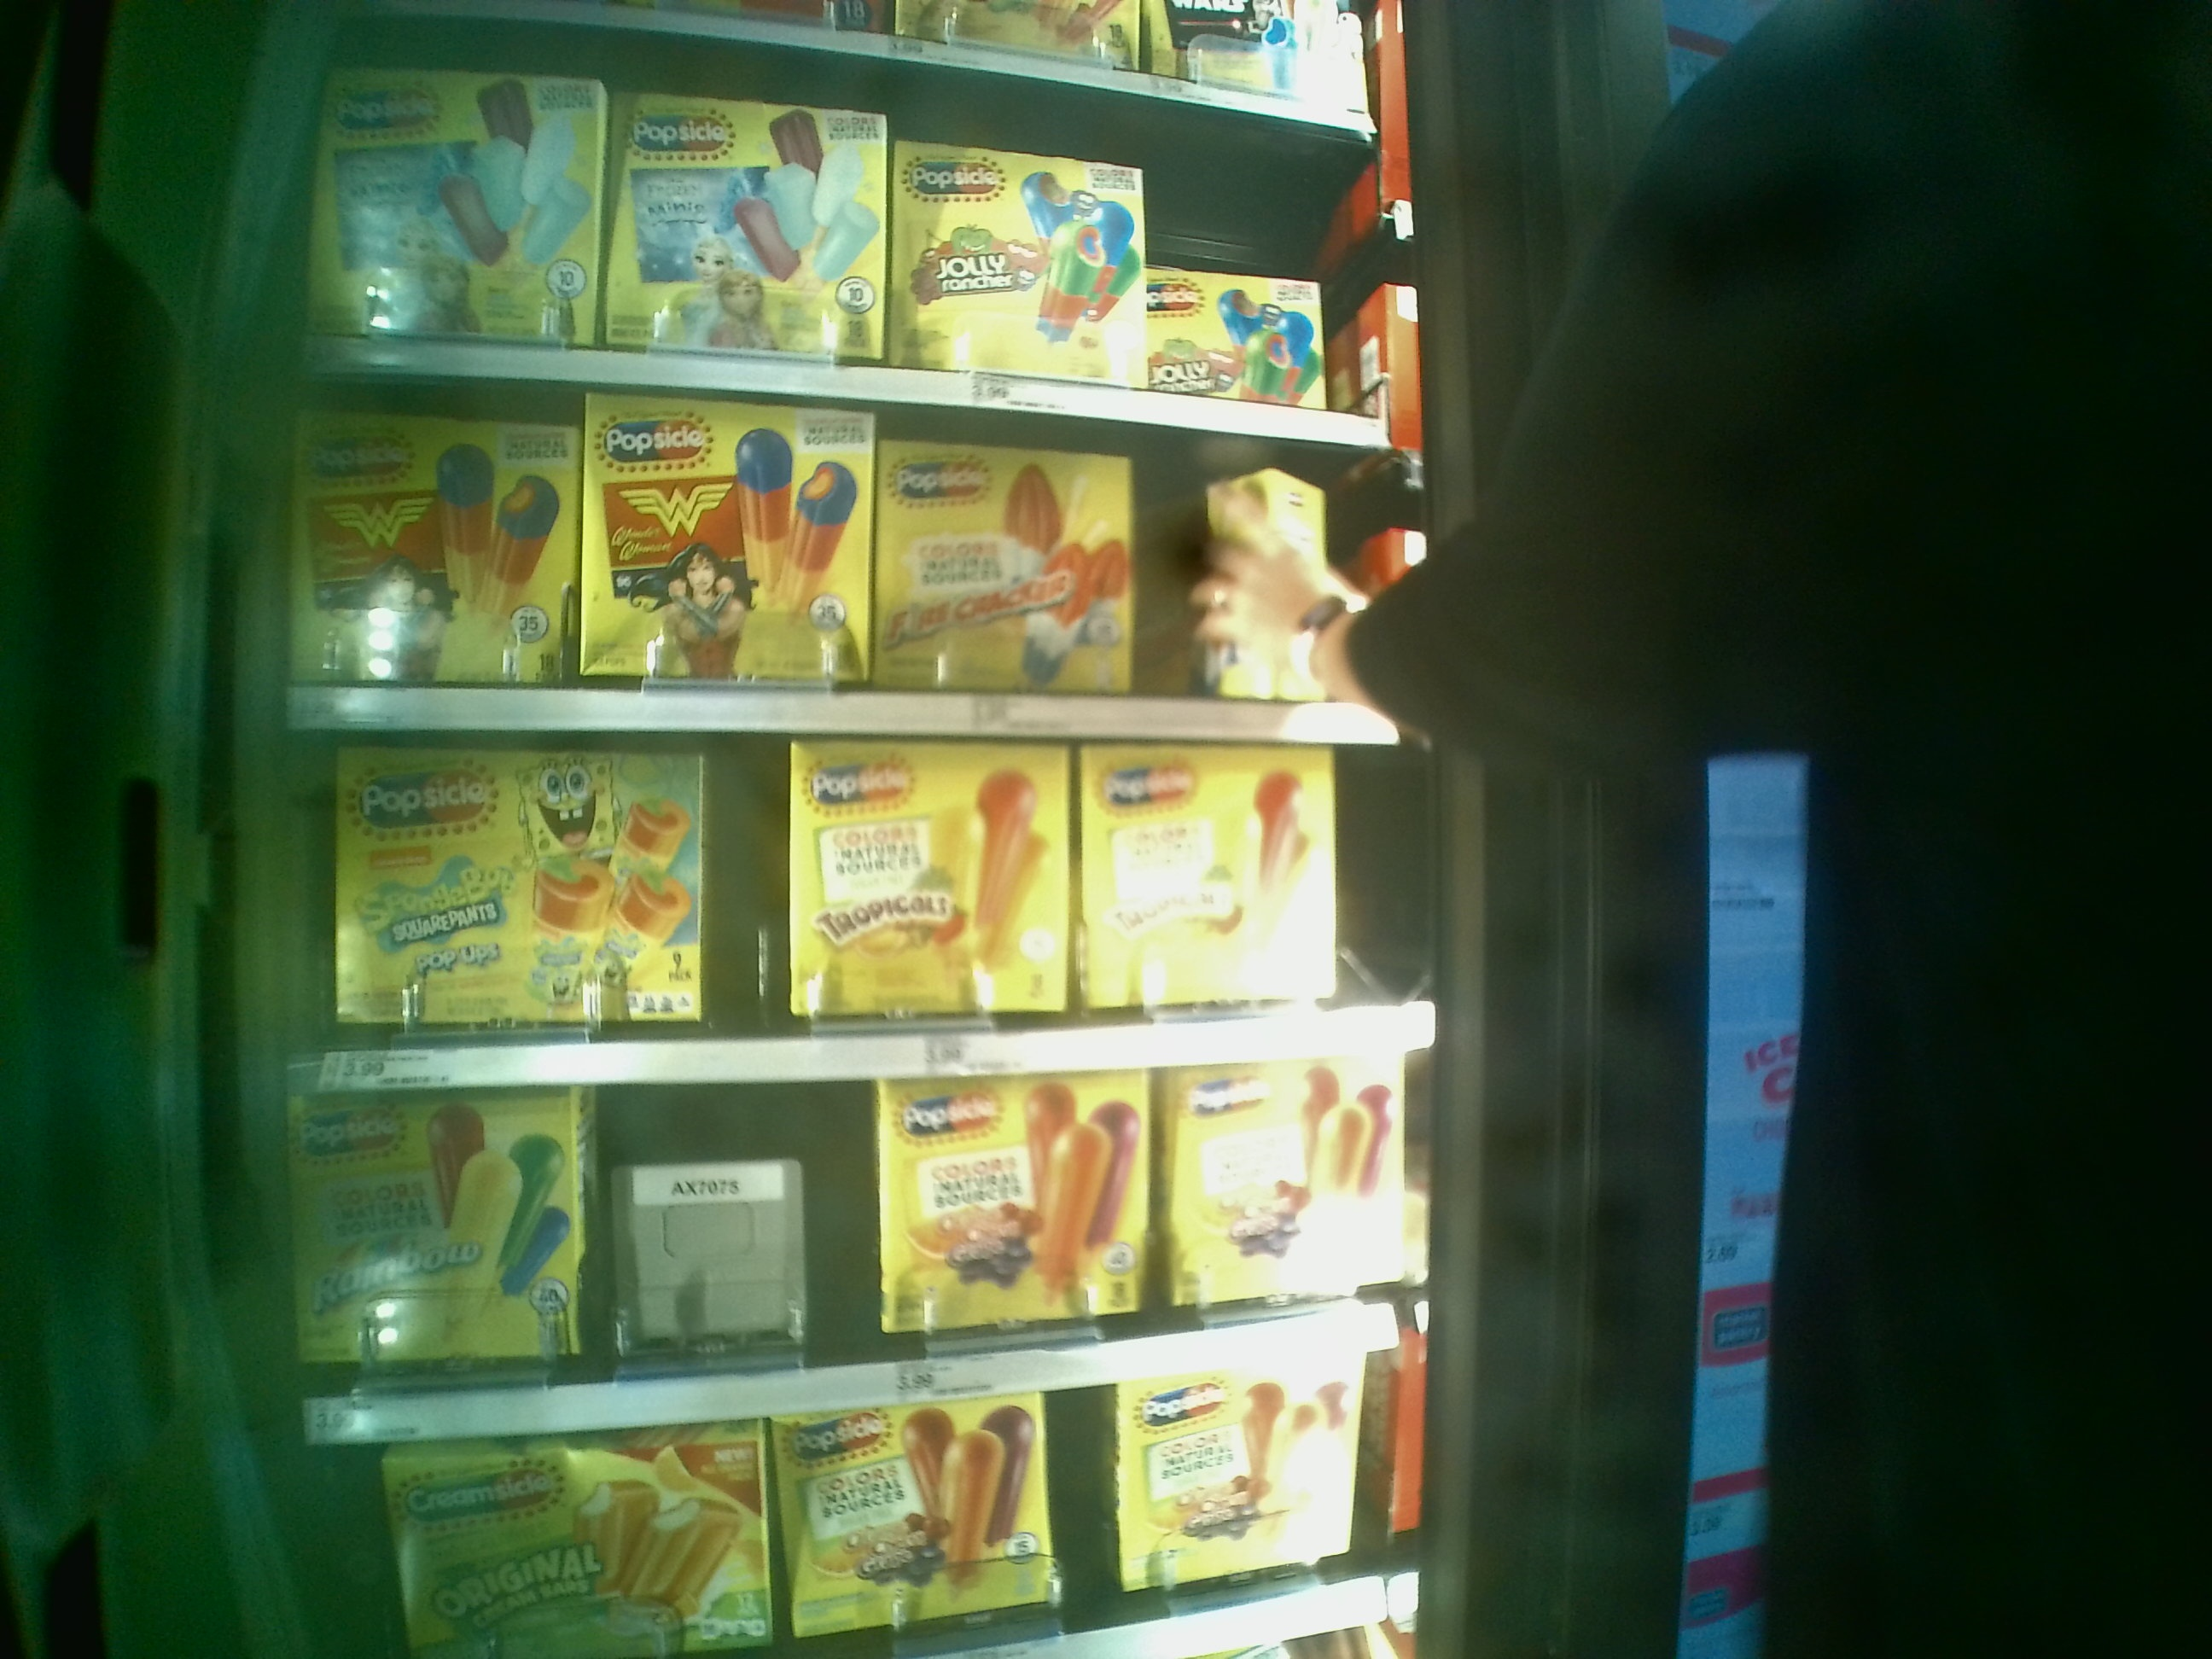frozen-food-shelf: (275, 728, 1486, 1094)
